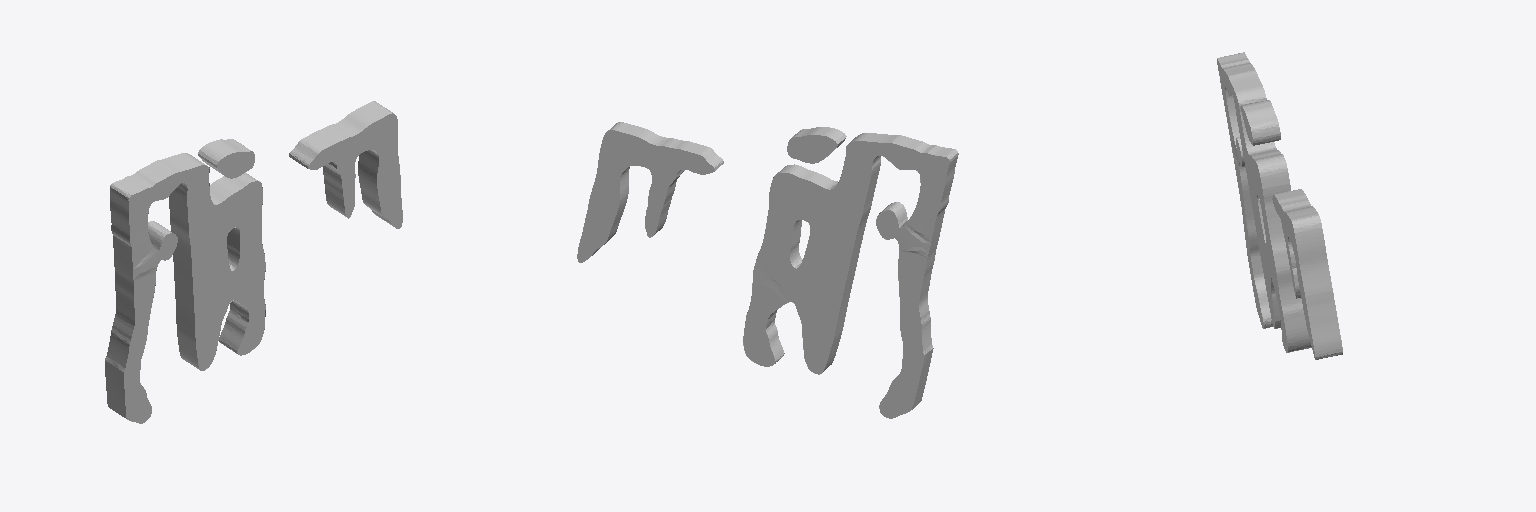
Rendered from script2.obj.
3 renders of one model, left to right at view 1: azimuth 30°, elevation 25°; view 2: azimuth 150°, elevation 25°; view 3: azimuth 270°, elevation 25°, orthographic.
Visible parts, largest first — view 1: script_2; view 2: script_2; view 3: script_2.
Part boxes in pixels (x1,y1,x2,y2): script_2: (105, 101, 402, 423); script_2: (577, 122, 958, 418); script_2: (1217, 52, 1342, 359).
Bounding box in the file's own units: 13.26 × 10.14 × 4.43.